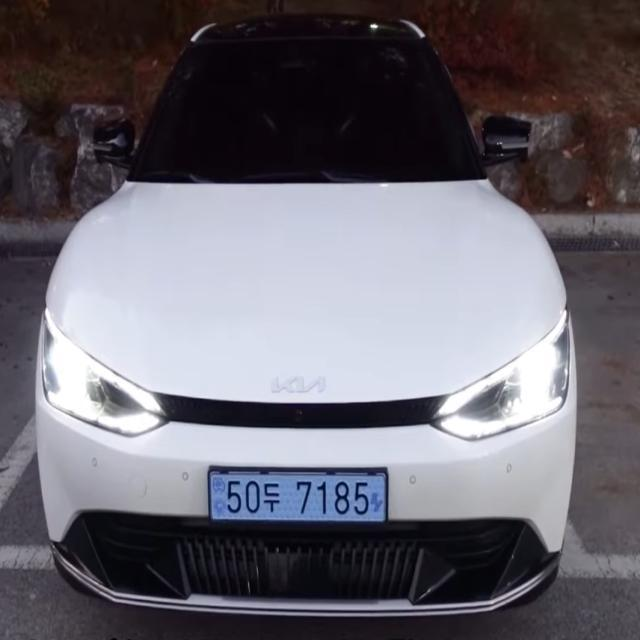car: (189, 461, 412, 541)
carev: (368, 470, 393, 528), (205, 467, 227, 527)
